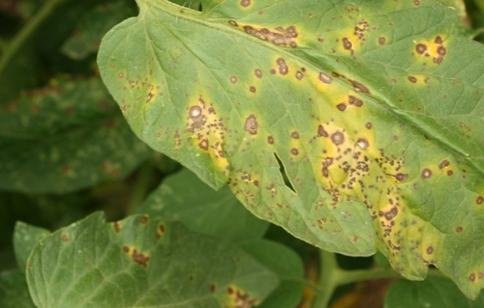Tomato Septoria leaf spot: (99, 0, 484, 300)
